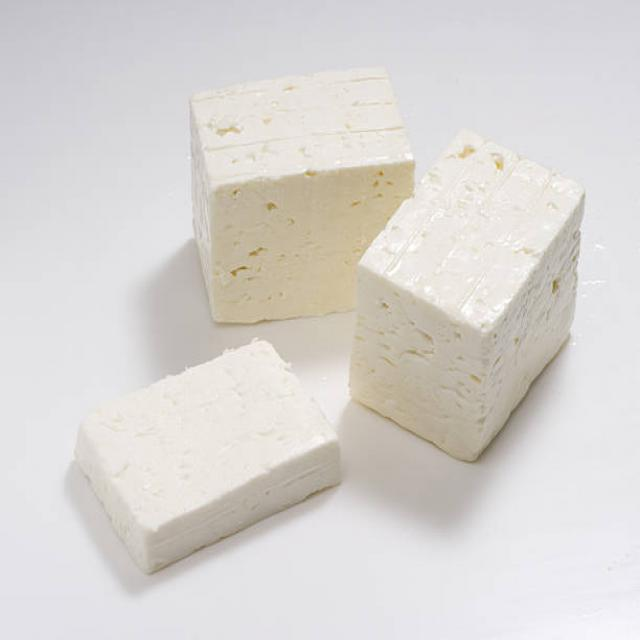Tofu Block: (352, 172, 590, 464), (70, 337, 346, 578), (187, 83, 352, 325)
